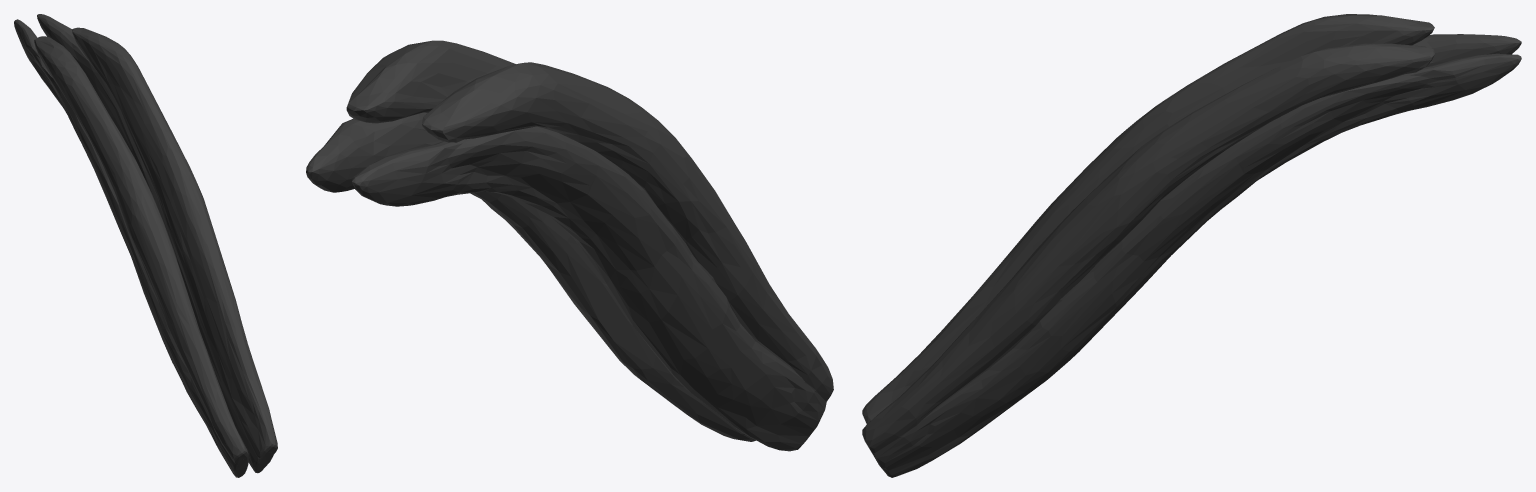
Rendered from m_semispinalis_capitis.glb.
3 renders of one model, left to right at view 1: azimuth 30°, elevation 25°; view 2: azimuth 150°, elevation 25°; view 3: azimuth 270°, elevation 25°, orthographic. The views are drawn at different scales.
Visible parts, largest first — view 1: m_semispinalis_capitis; view 2: m_semispinalis_capitis; view 3: m_semispinalis_capitis.
Part boxes in pixels (x1,y1,x2,y2): m_semispinalis_capitis: (14, 14, 277, 477); m_semispinalis_capitis: (306, 40, 833, 451); m_semispinalis_capitis: (862, 14, 1521, 477).
Size of the model in its own units: 0.00115 by 0.00456 by 0.00619.
Materials: 1 (1 with a texture image).
